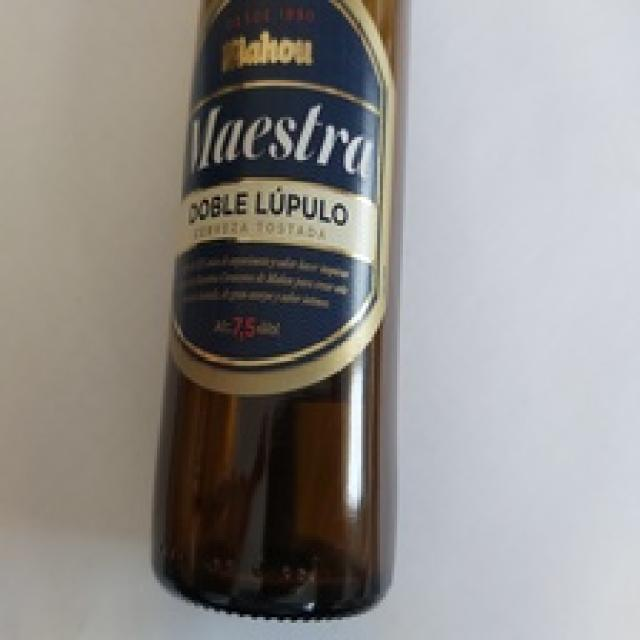Glass: (146, 0, 412, 623)
